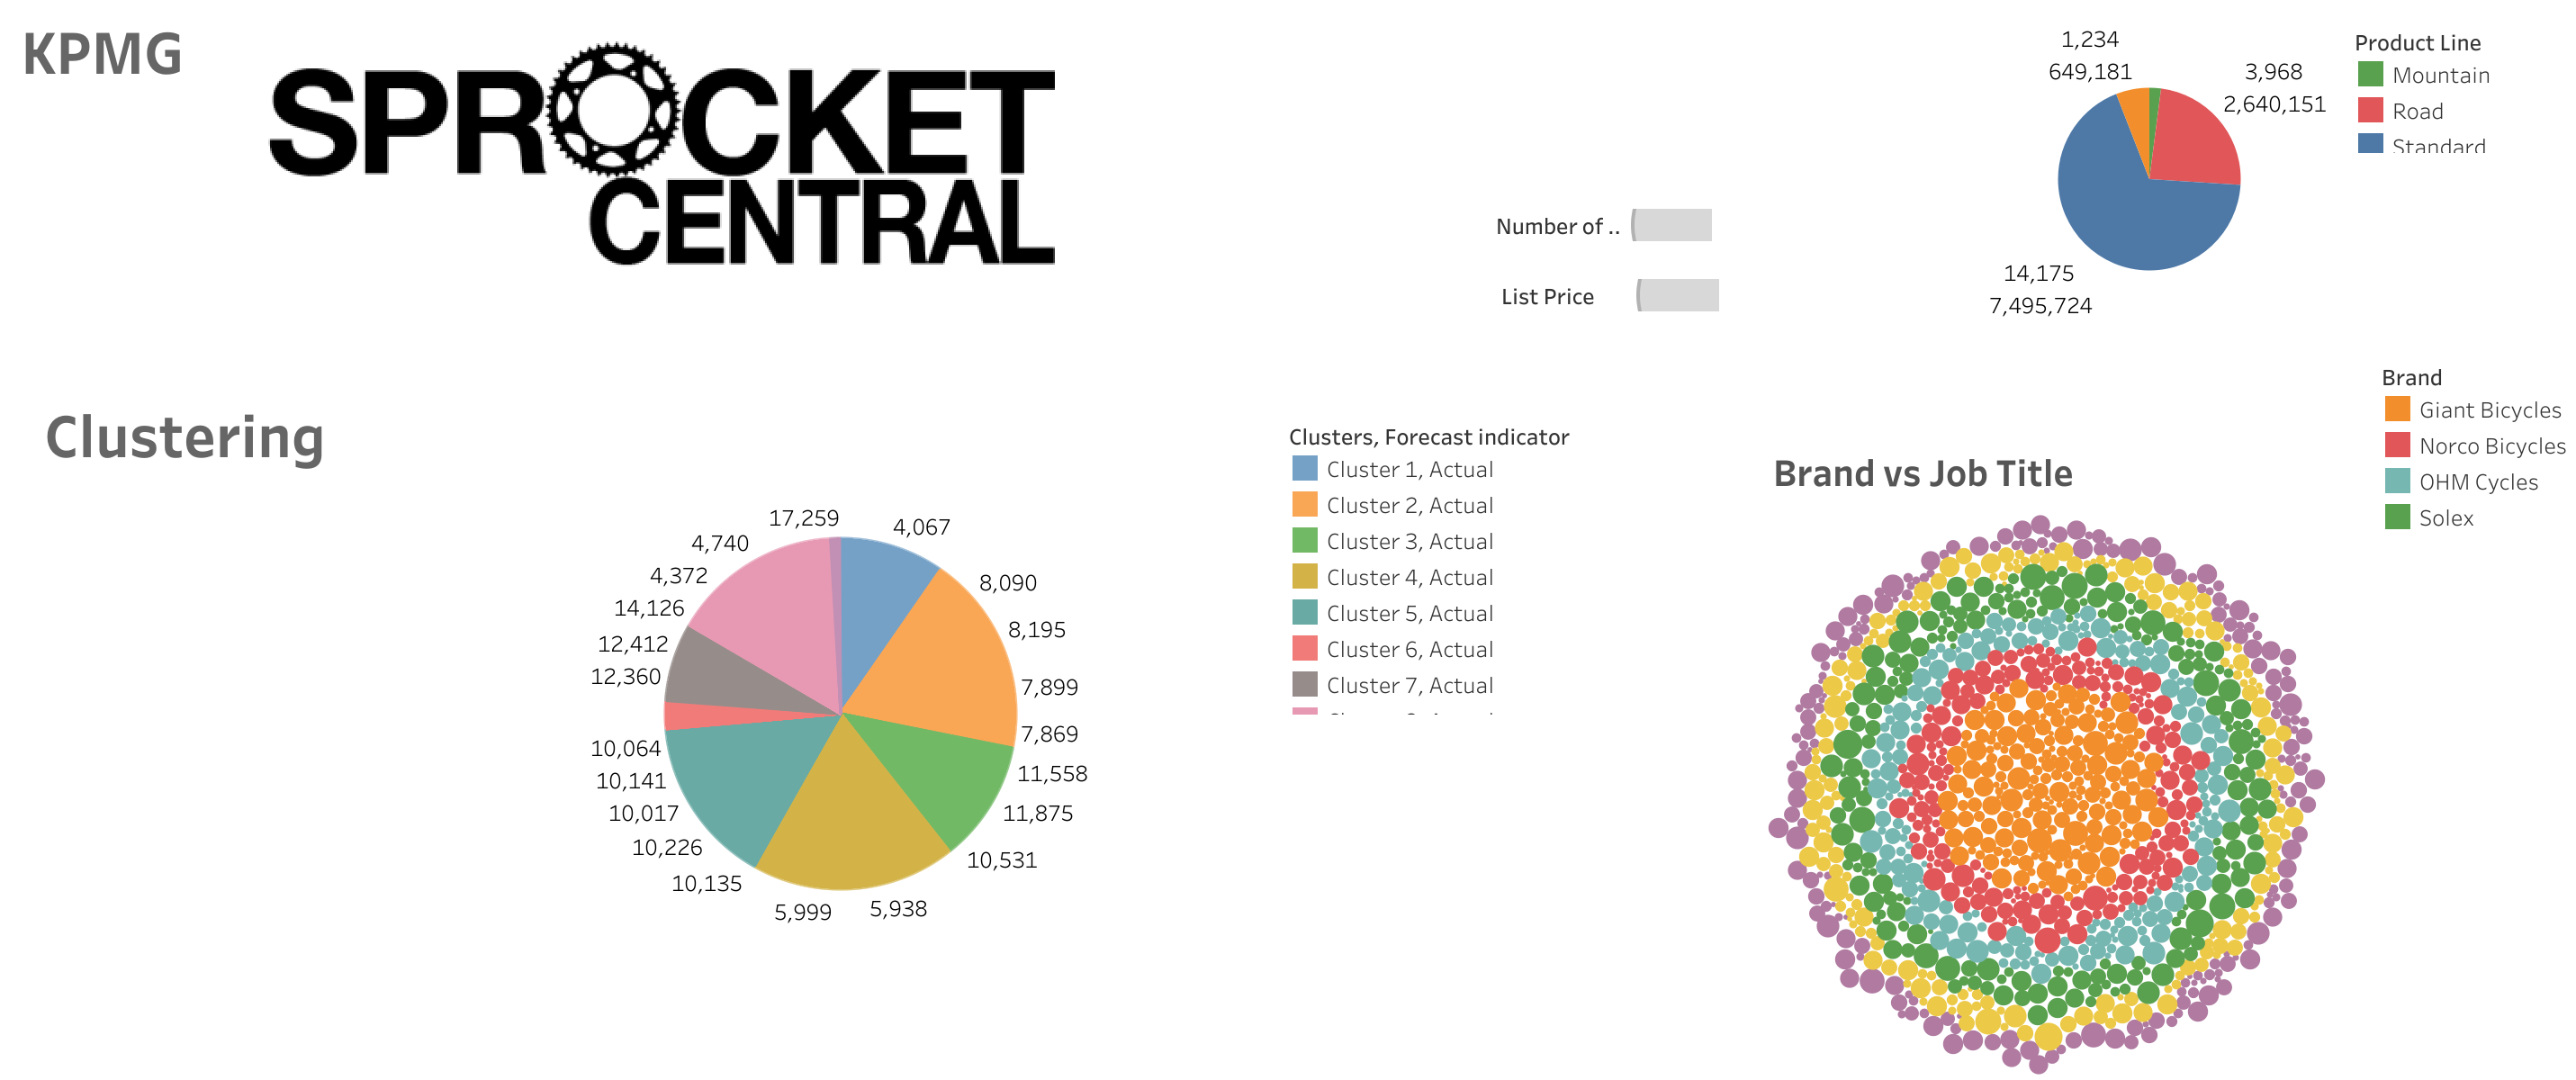

Layout of this report page (visuals, bound fields, positions):
{"tool":"tableau","page":{"name":"Dashboard 3","canvas":[1000,1000],"units":"permille","ordinal":2},"visuals":[{"type":"worksheet","box":[6.5,15.4,84.6,63]},{"type":"worksheet","title":"Sheet 7","mark":"Pie","param":"[federated.10zzsdp0hoaa021cgm0eb0f26sjg].[none:product_line:nk]","box":[912.5,19.5,84.5,121.4]},{"type":"worksheet","param":"Image/sprocket_central_logo.png","box":[103.2,37.8,397.1,258.9]},{"type":"worksheet","title":"Sheet 7","mark":"Pie","param":"[federated.10zzsdp0hoaa021cgm0eb0f26sjg].[sum:Number of Records:qk]","box":[580,191.3,84.5,49.3]},{"type":"worksheet","title":"Sheet 9","mark":"Pie","param":"[federated.10zzsdp0hoaa021cgm0eb0f26sjg].[fVal:sum:list_price:qk]","box":[582.4,256.6,84.5,49.3]},{"type":"worksheet","title":"Sheet 9","mark":"Pie","box":[1.8,333.3,648.2,652.9]},{"type":"worksheet","box":[15.7,348.2,150.3,104.2]},{"type":"worksheet","title":"Sheet 9","mark":"Pie","param":"[federated.10zzsdp0hoaa021cgm0eb0f26sjg].[none:AdhocCluster:1:ok]\n[federated.10z","box":[499.1,383.7,112.2,276.1]}]}

Visuals, with their boxes on the dashboard's canvas, which has no fixed pixel size, in thousandths of its width and height (x1, y1, x2, y2). These are canvas units, not pixel positions in the 2576x1080 screenshot, which may show the page scaled, cropped or inside an application window:
worksheet: detection(6, 15, 91, 78)
"Sheet 7" worksheet (Pie marks): detection(912, 20, 997, 141)
worksheet: detection(103, 38, 500, 297)
"Sheet 7" worksheet (Pie marks): detection(580, 191, 664, 241)
"Sheet 9" worksheet (Pie marks): detection(582, 257, 667, 306)
"Sheet 9" worksheet (Pie marks): detection(2, 333, 650, 986)
worksheet: detection(16, 348, 166, 452)
"Sheet 9" worksheet (Pie marks): detection(499, 384, 611, 660)
